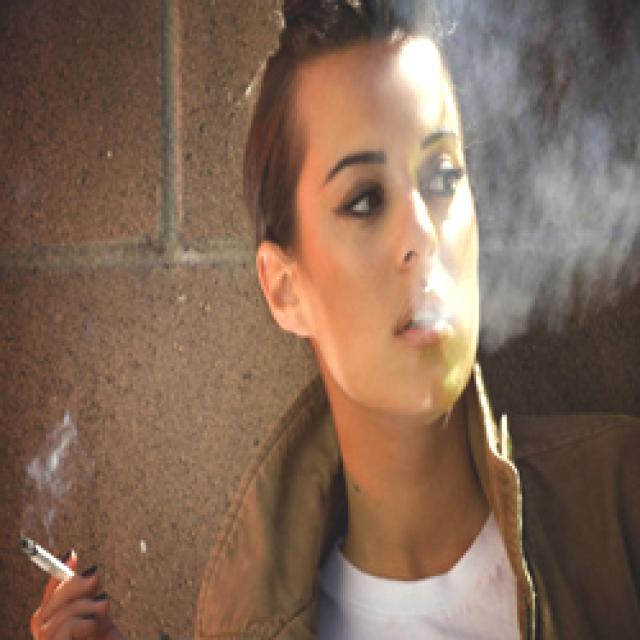Smooking: (7, 524, 82, 584)
